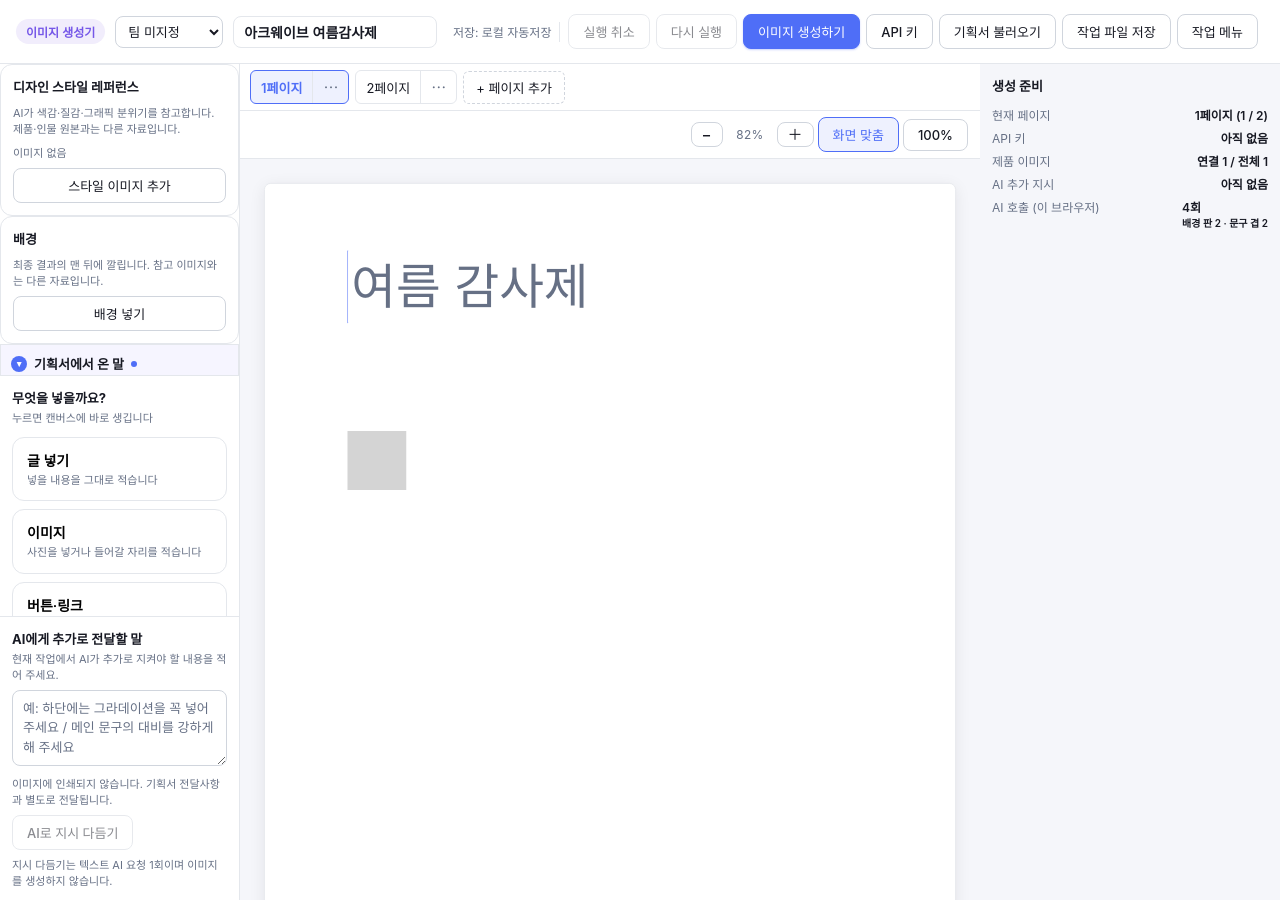
Test: §4 상단은 이미지 만드는 일만 앞에 둔다 › opens the .eventbrief save straight from the bar
Expected: the field with class "editor-topbar__title" holds "아크웨이브 여름감사제", x1=233 y1=16 x2=437 y2=48
Click the button "작업 파일 저장".
click(1116, 32)  # box x1=1062 y1=14 x2=1171 y2=49
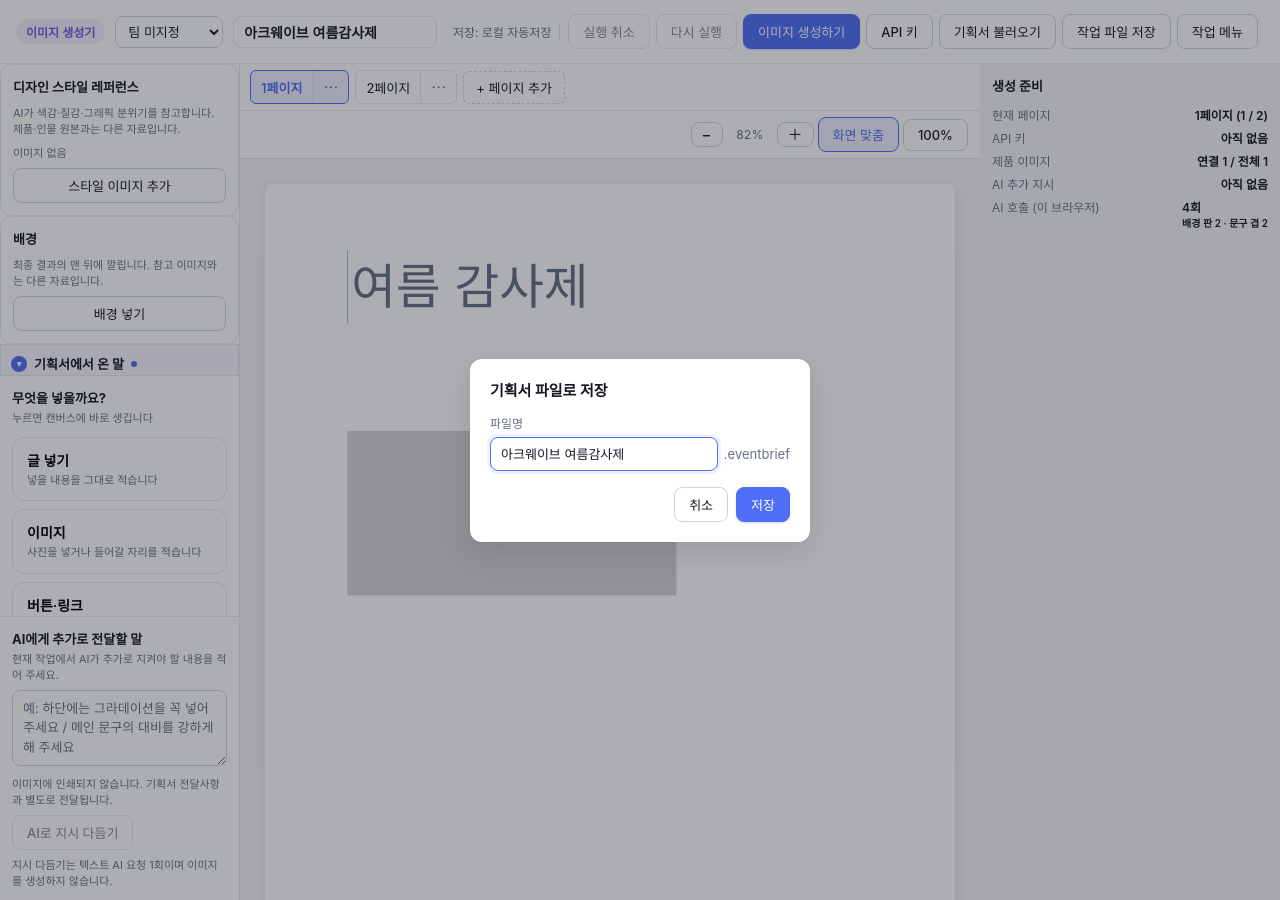
Expected: the field labelled "파일명" holds "아크웨이브 여름감사제", x1=490 y1=436 x2=718 y2=470
Expected: the text ".eventbrief" is shown, x1=724 y1=446 x2=790 y2=462
